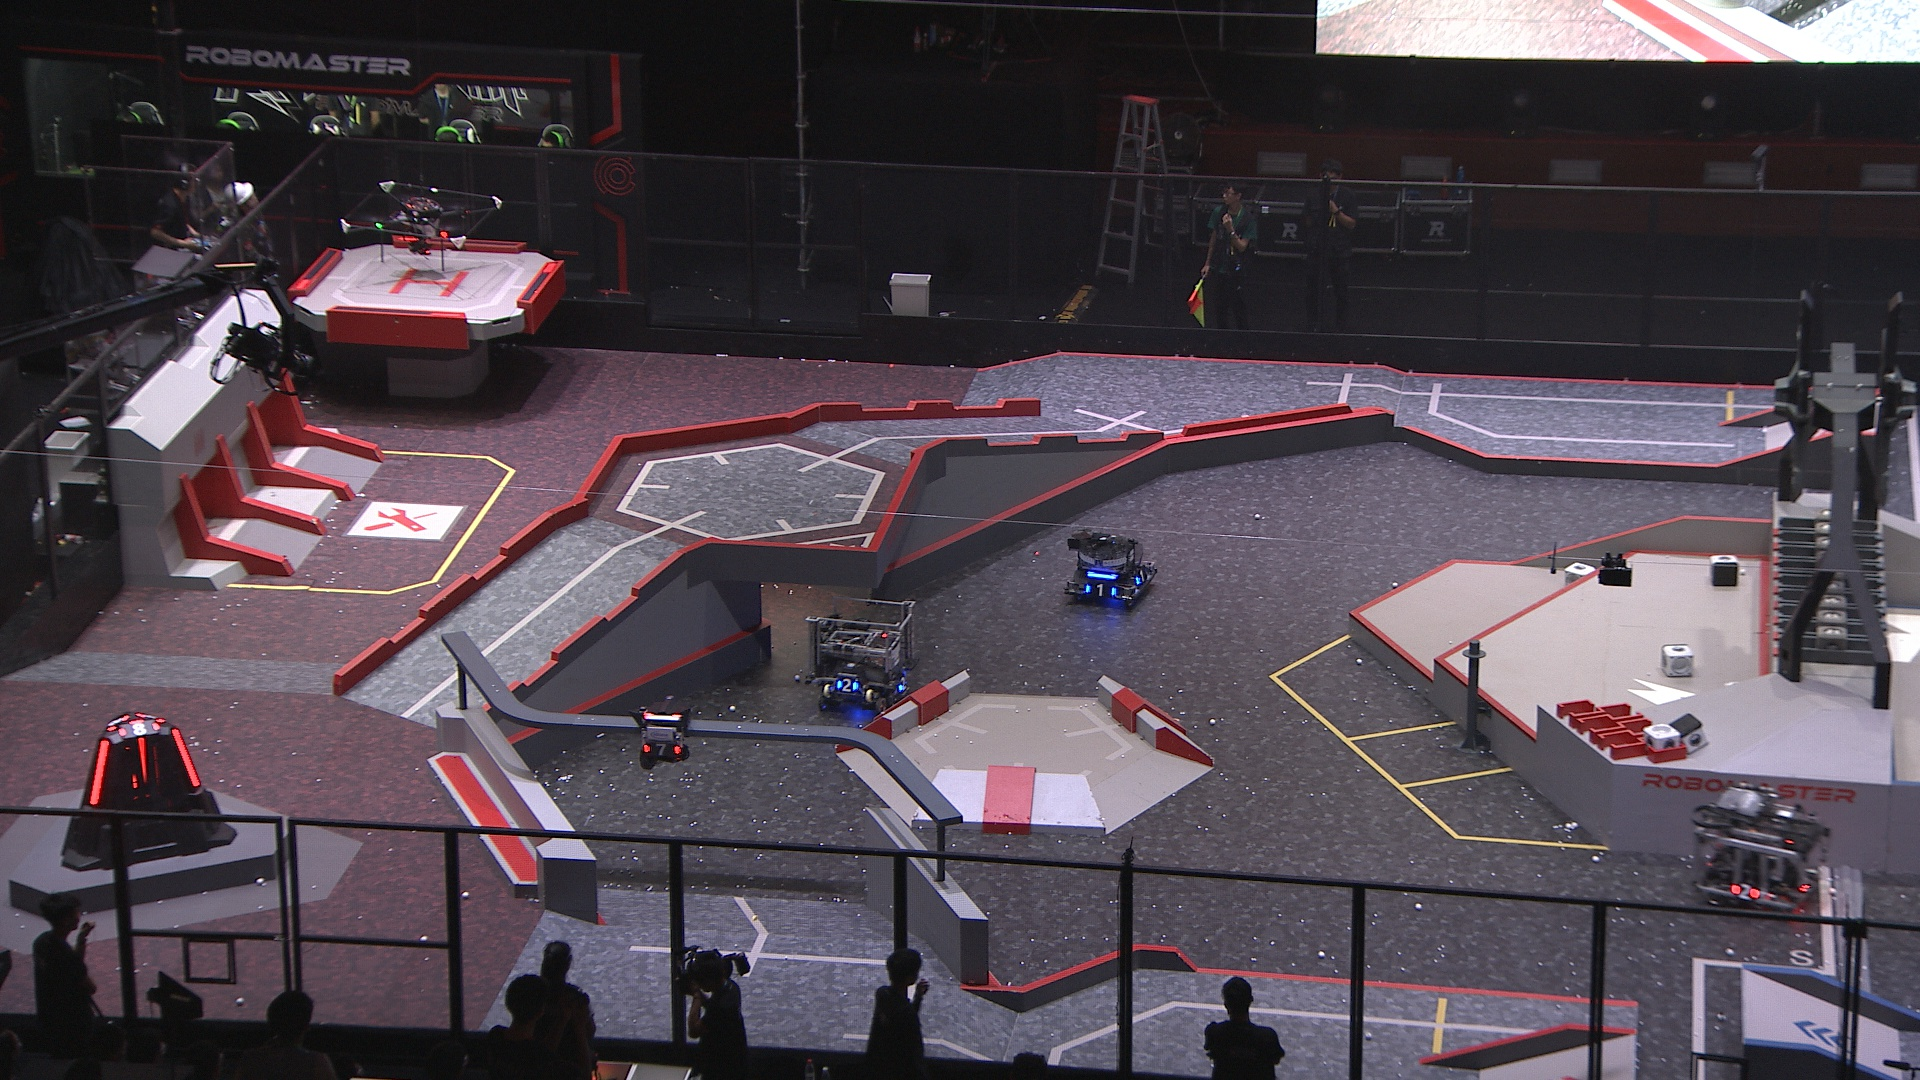armor: (169, 727, 204, 789), (84, 737, 109, 807), (135, 735, 152, 785), (1727, 882, 1760, 902), (119, 721, 161, 736), (1084, 582, 1120, 599), (641, 742, 680, 757), (835, 676, 861, 695), (895, 675, 910, 695), (1133, 568, 1149, 585)
base: (57, 711, 235, 872)
car: (1689, 789, 1832, 920), (800, 593, 918, 717), (1060, 529, 1158, 608)
watcher: (632, 694, 688, 770)
